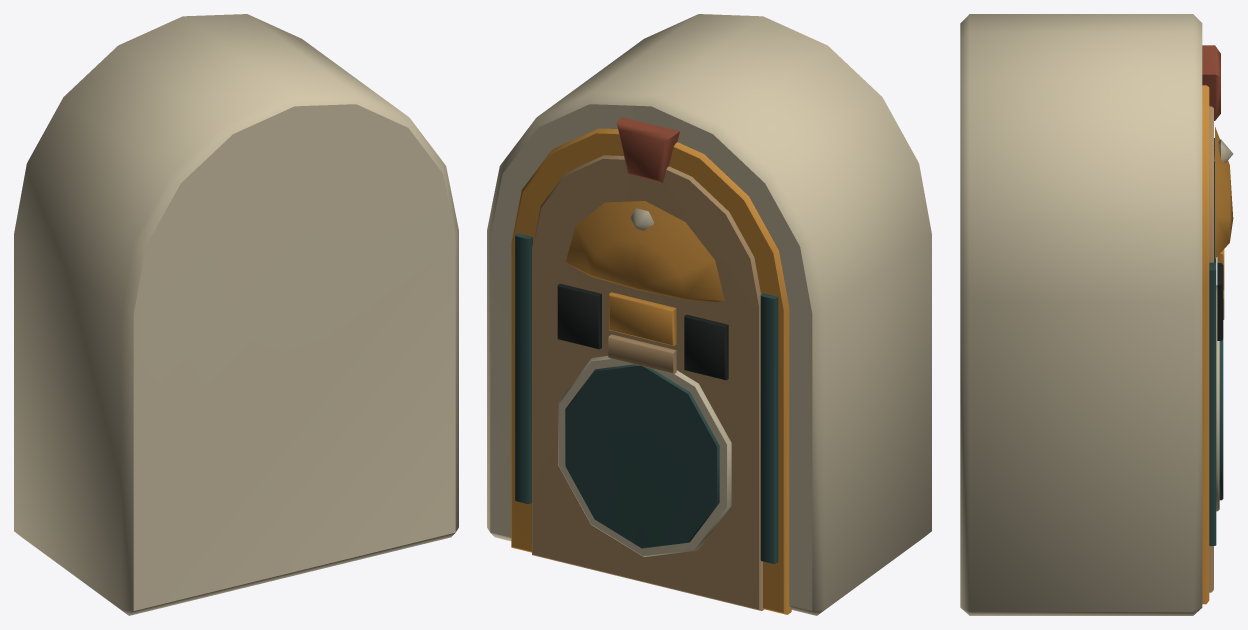
File: moss_jukebox_cabinet.glb
The picture shows the model from 3 angles, left to right: view 1: azimuth 30°, elevation 25°; view 2: azimuth 150°, elevation 25°; view 3: azimuth 270°, elevation 25°; orthographic projection. The views are drawn at different scales.
Visible parts, largest first — view 1: Cabinet; view 2: Cabinet; view 3: Cabinet.
Part boxes in pixels (x1,y1,x2,y2): Cabinet: [14, 14, 458, 615]; Cabinet: [487, 14, 931, 615]; Cabinet: [960, 14, 1233, 615].
Size of the model in its own units: 1.76 by 2.4 by 1.19.
